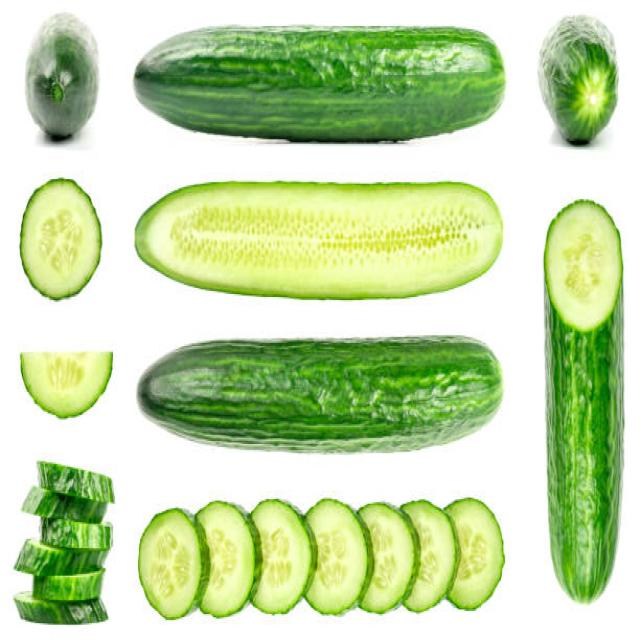cucumber: (134, 21, 506, 146), (133, 180, 504, 302), (137, 334, 500, 454), (544, 194, 625, 605)
